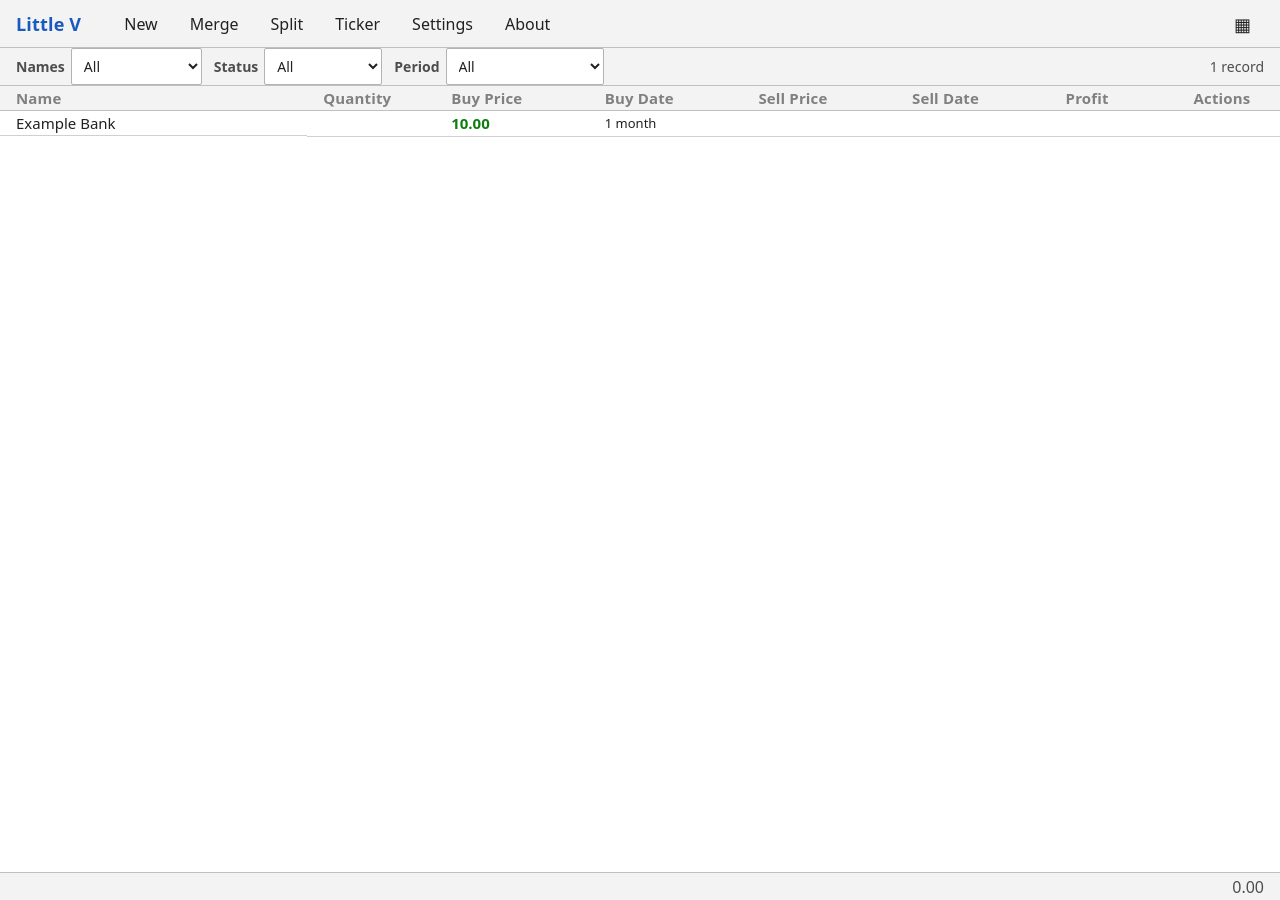
Test: App › keeps an edited row visible under Alerted only until the Status filter is changed again
This screenshot has width=1280, height=900.
Select "Alerted only" in the dropdown labelled "Status" at [323, 66], box [264,48,382,85]
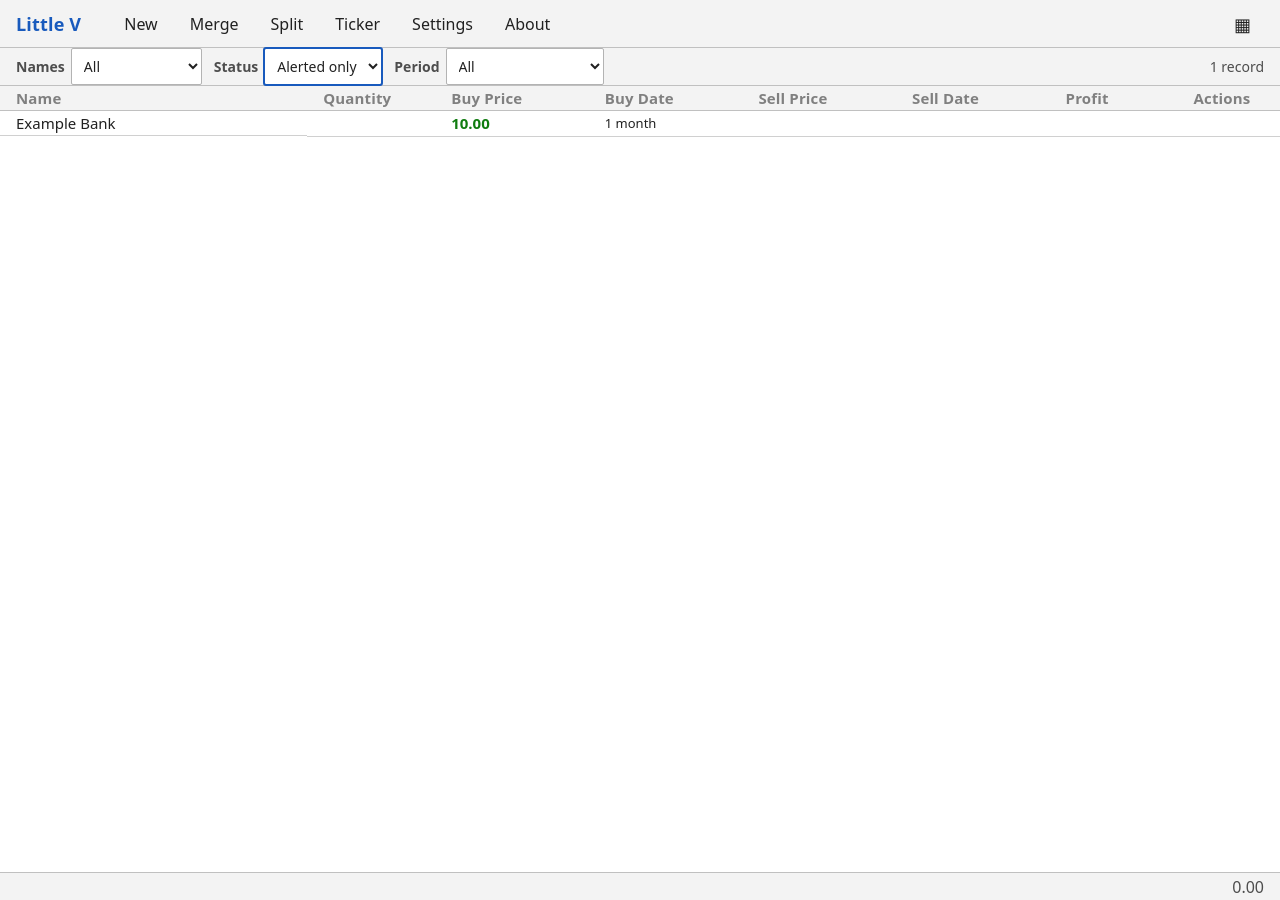
Double-click the text "Example Bank" at [640, 123], box [0,110,1279,136]
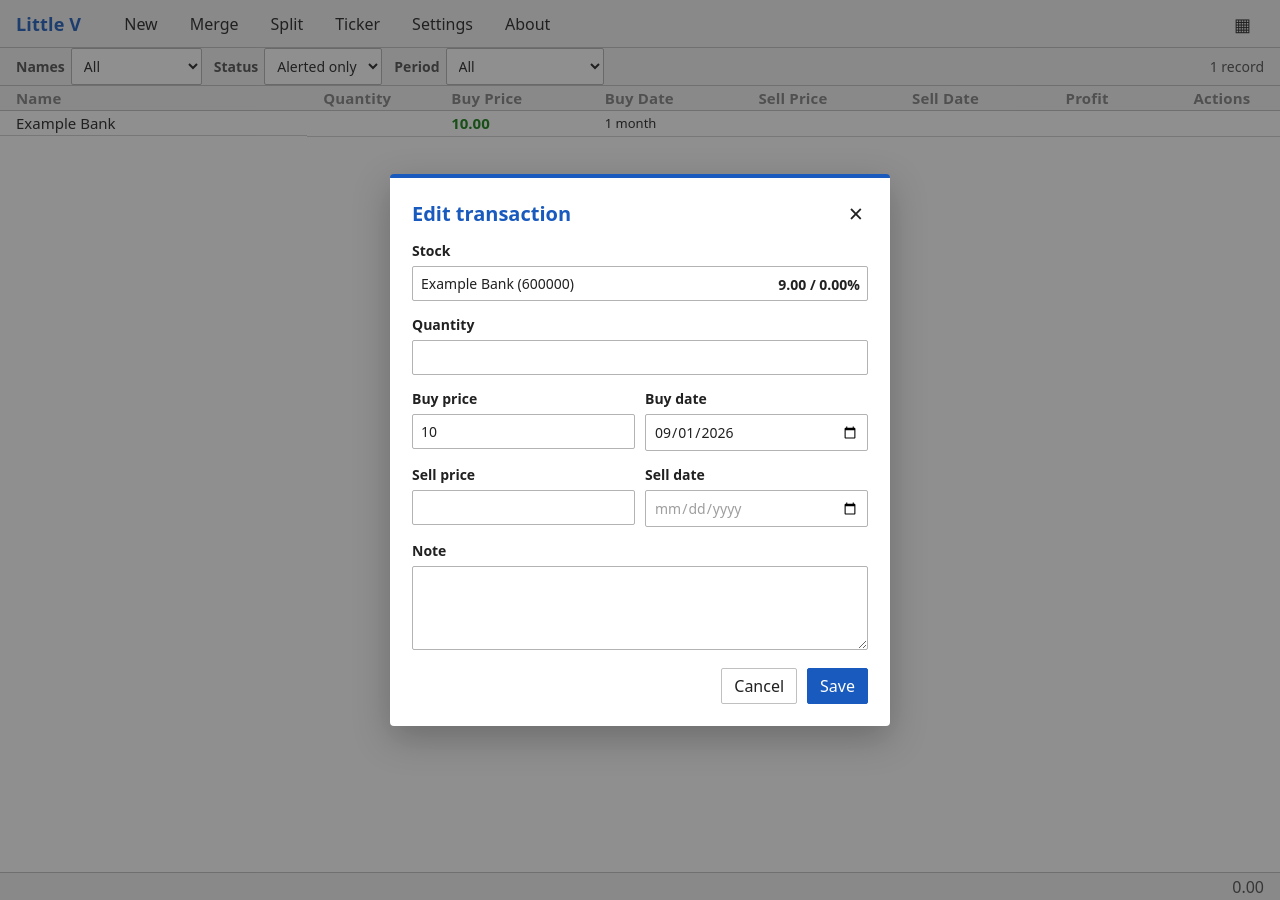
Replace the text in the number field labelled "Buy price" with "9" at [524, 432], box [412,414,635,449]
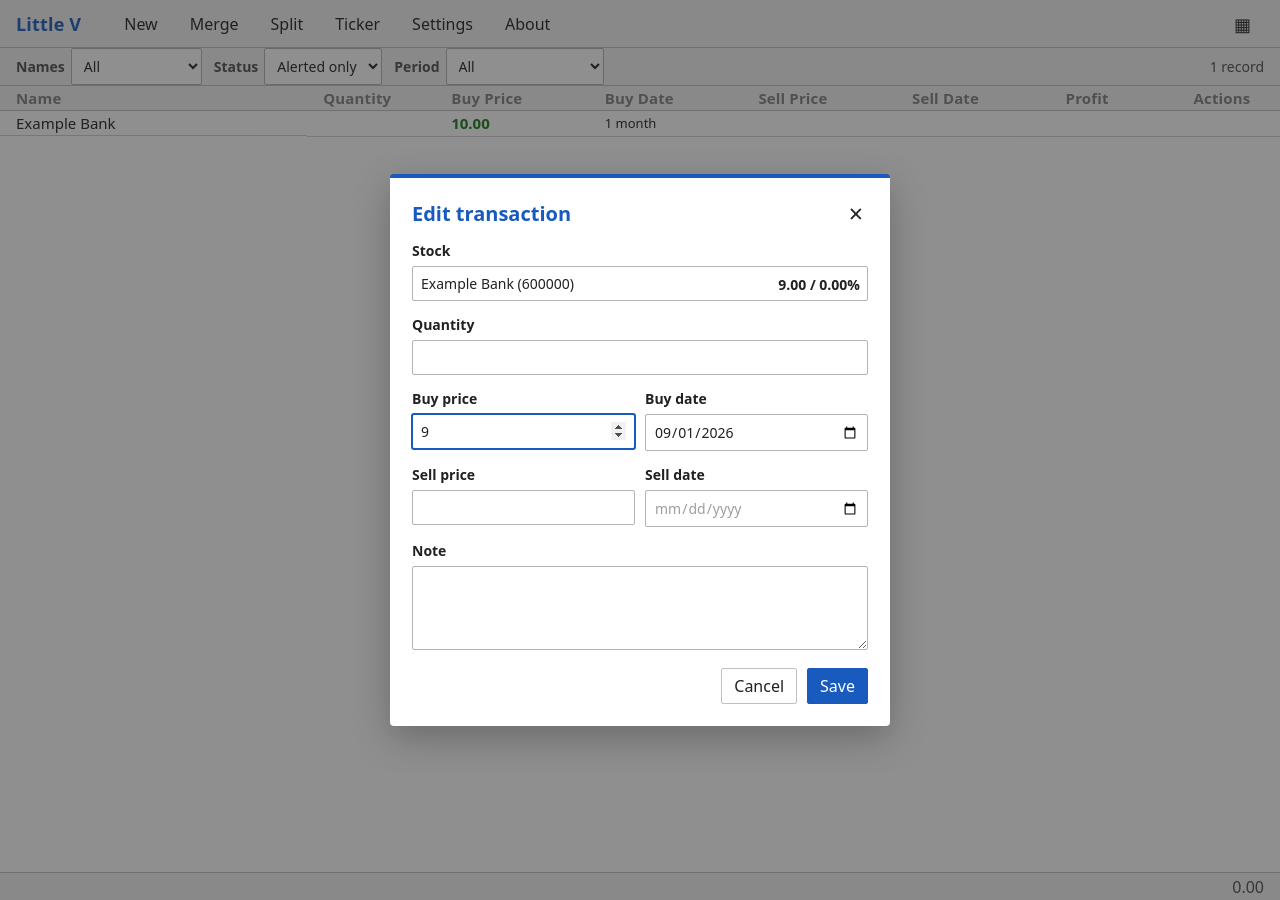
Click the button "Save" at [838, 686], box [807,668,868,704]
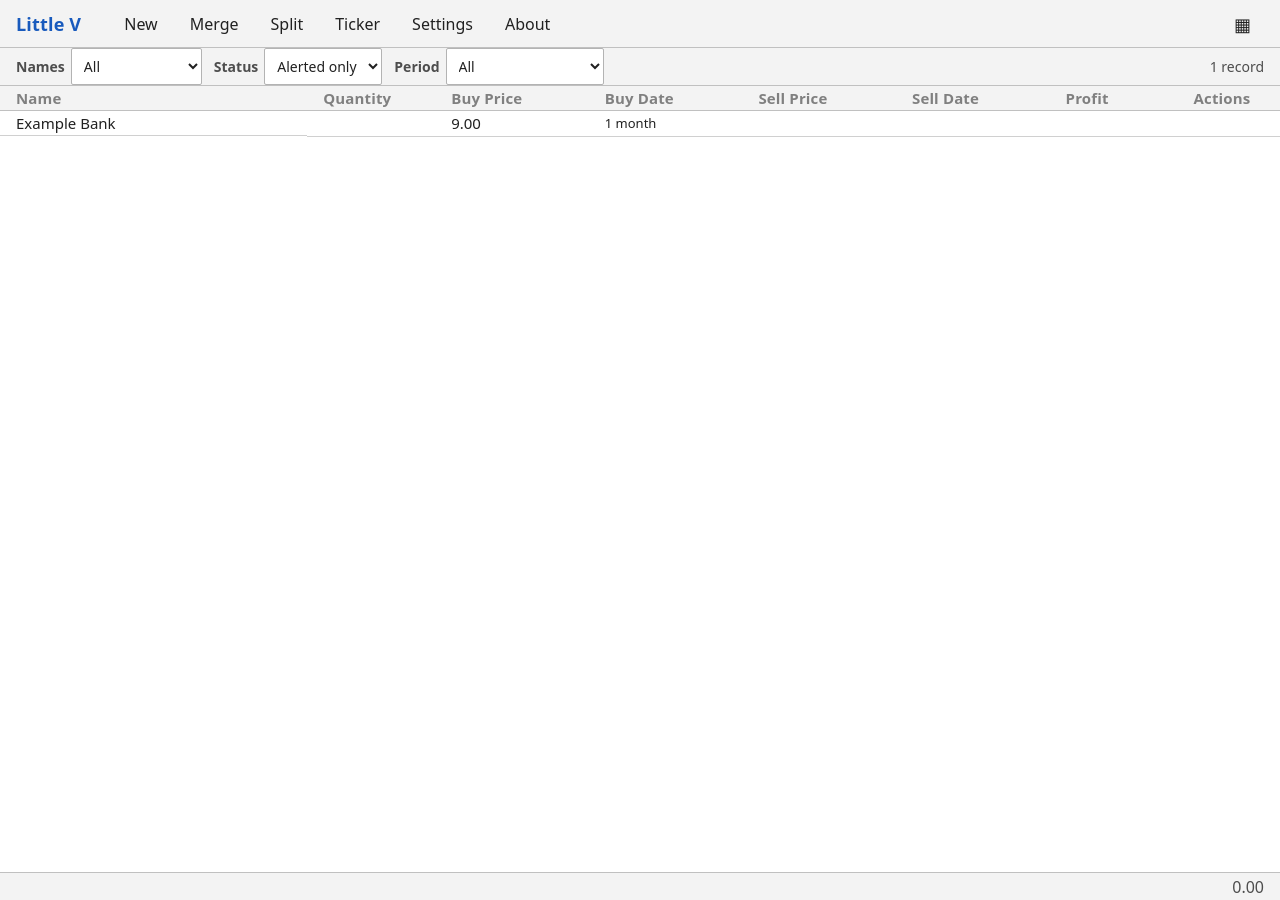
Expected: the text "Example Bank" is shown, [16,113,116,133]
Expected: the heading "Edit transaction" is gone
Expected: the text "9.00" is shown, [435,110,589,136]
Select "All" in the dropdown labelled "Status" at [323, 66], box [264,48,382,85]
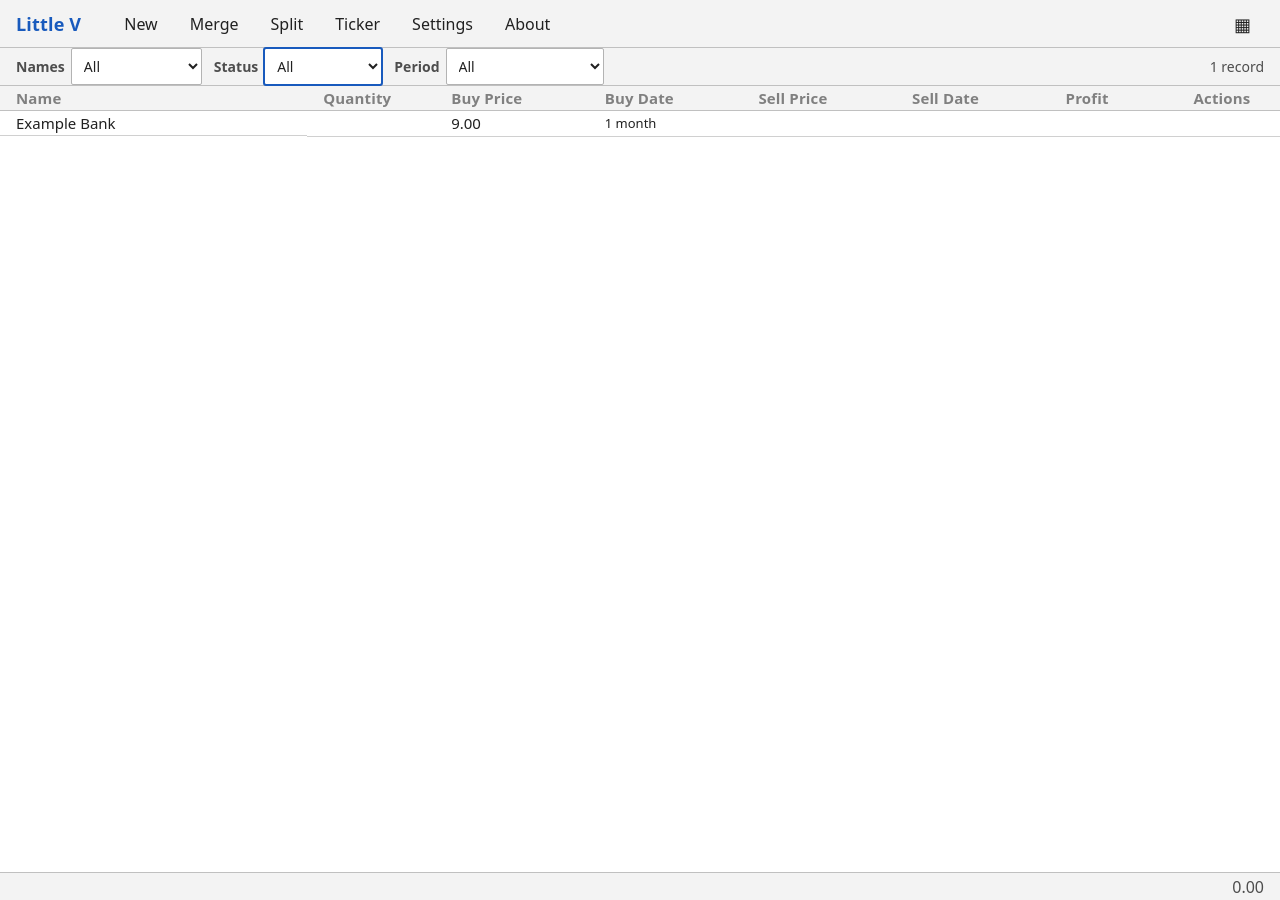
Select "Alerted only" in the dropdown labelled "Status" at [323, 66], box [264,48,382,85]
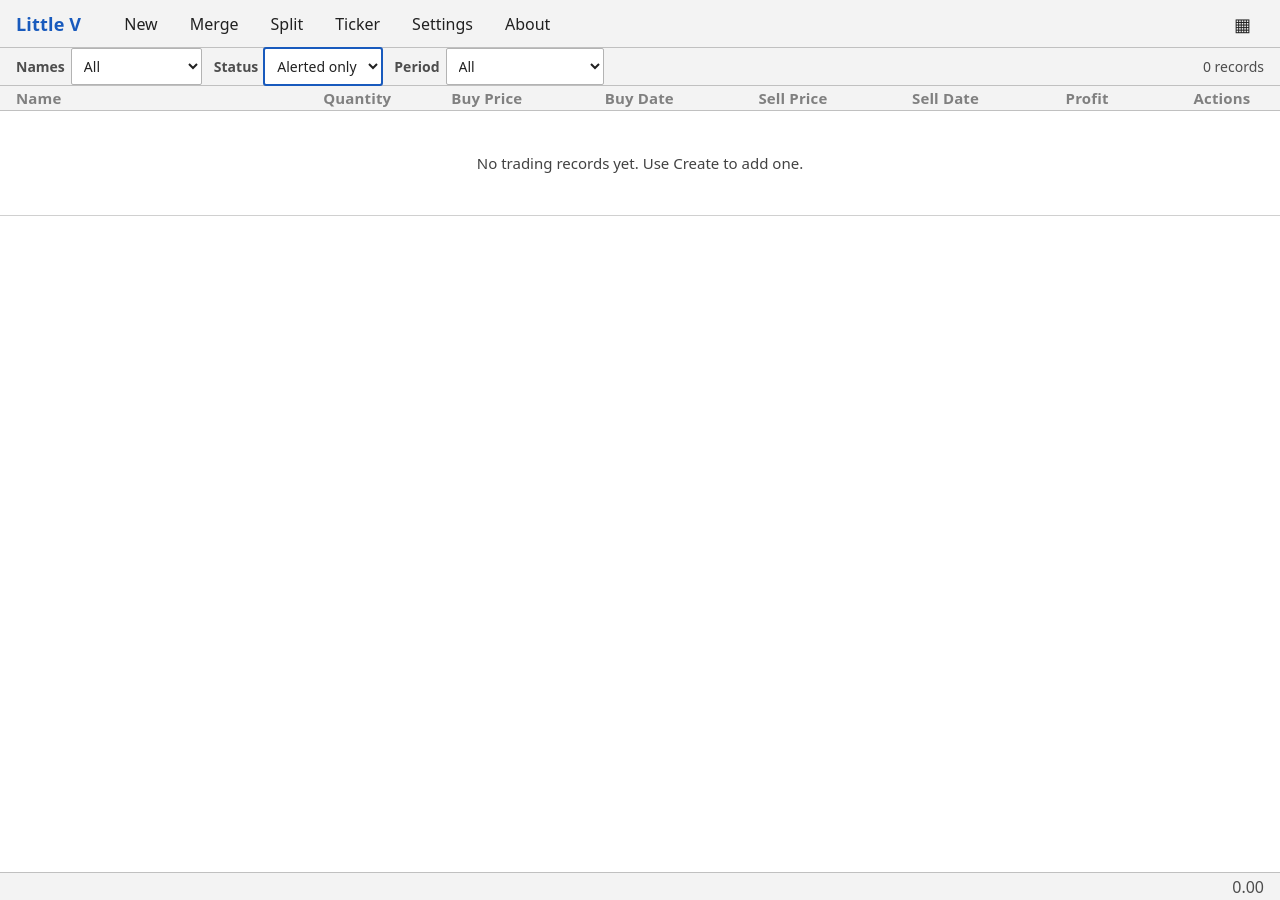
Expected: the text "Example Bank" is gone
